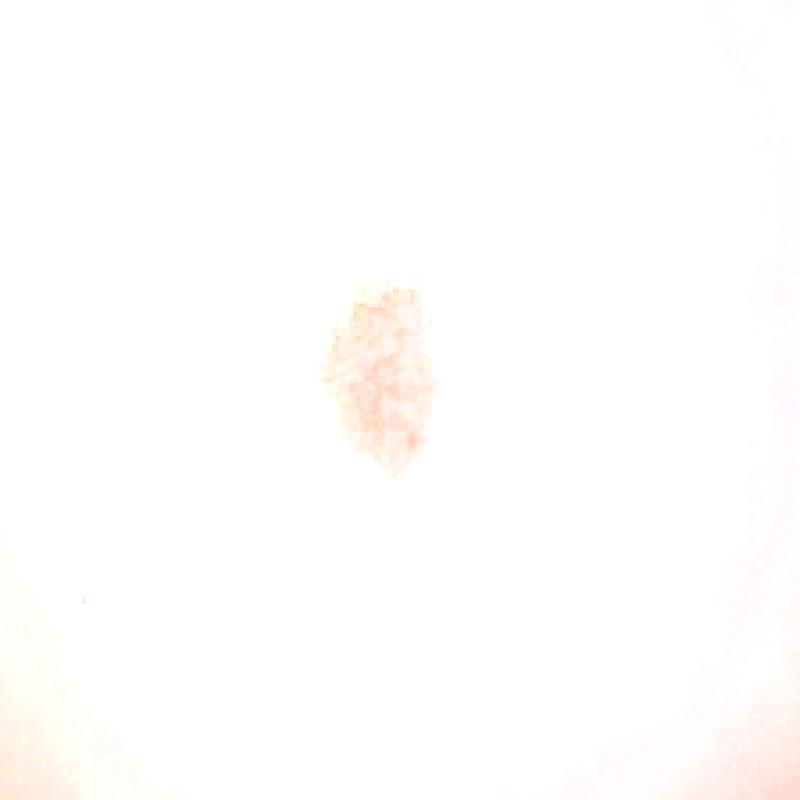benign: (270, 259, 476, 514)
